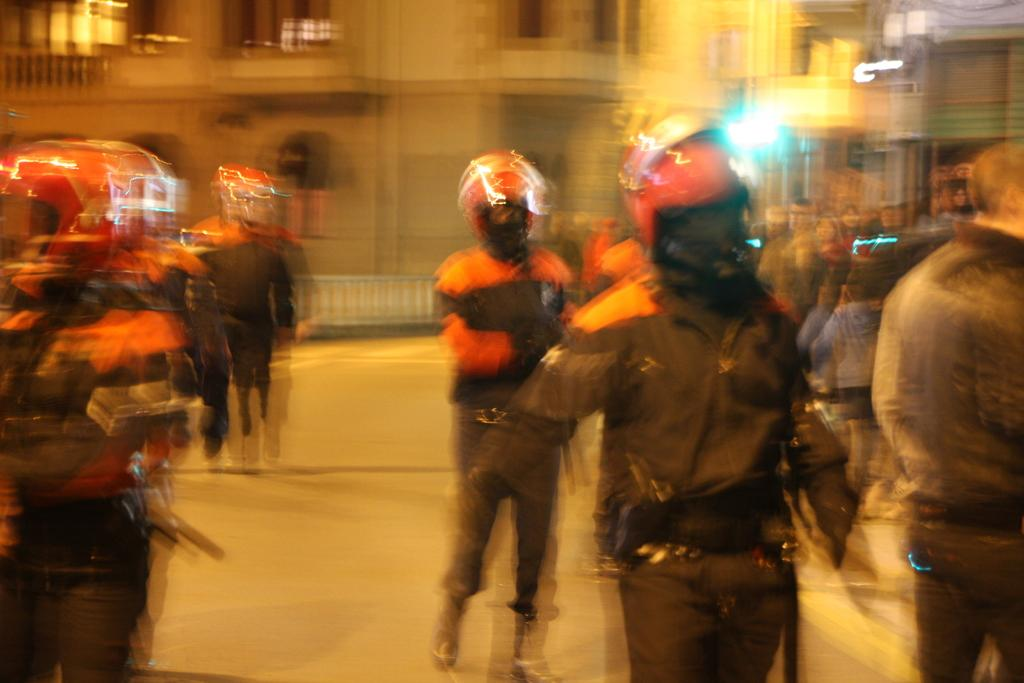helmet: (618, 115, 767, 294), (0, 138, 155, 303), (457, 149, 547, 249), (211, 163, 274, 227)
